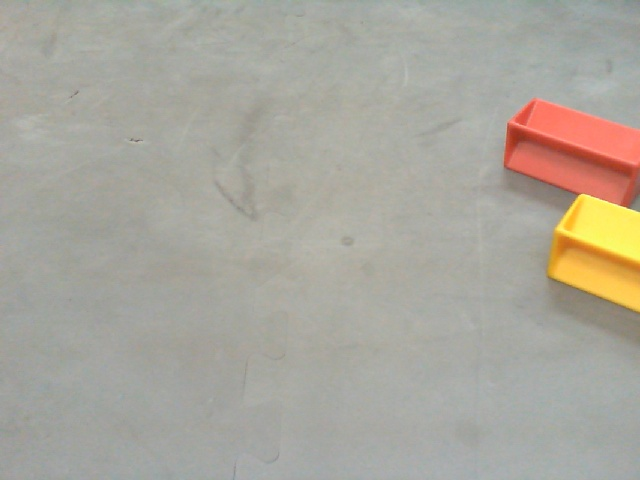RedSample: (498, 94, 640, 204)
YellowSample: (546, 192, 640, 315)
